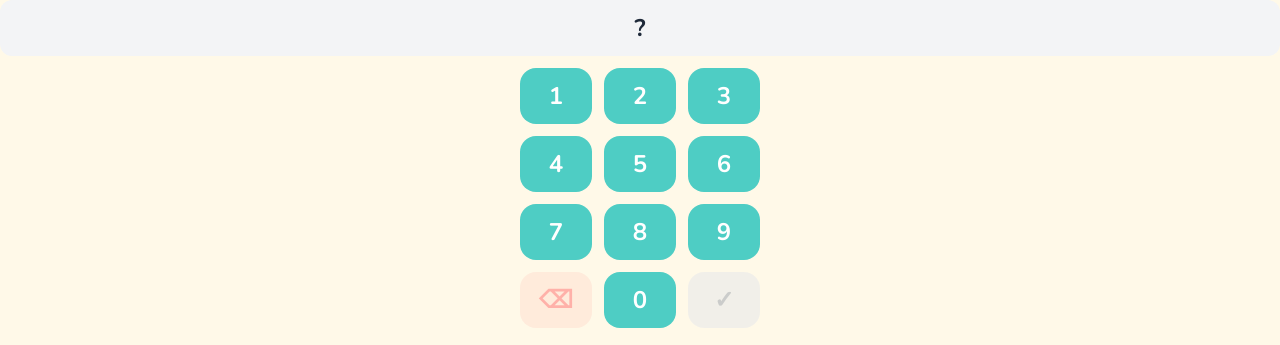
Scenario: NumberPad › appends digit on tap
The image size is (1280, 345).
Step 1. Click the button named "Number 3" → (724, 96), box 688,68 -> 760,124
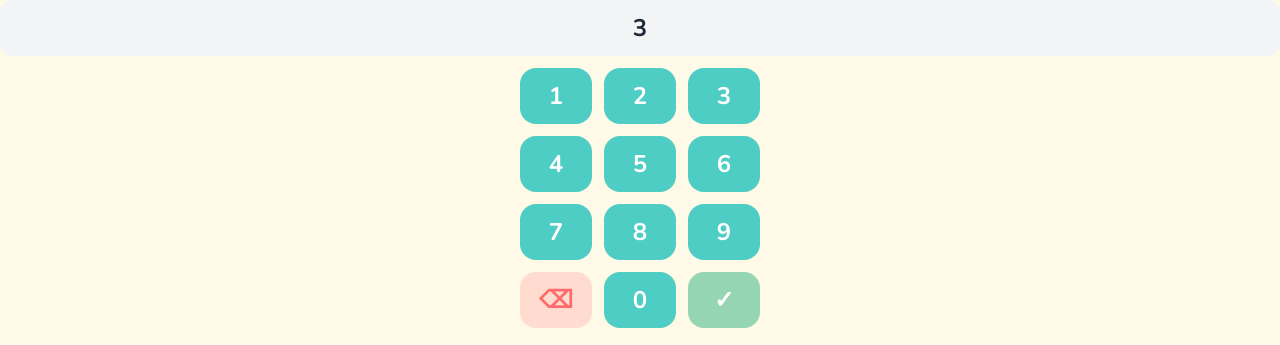
Step 2. Click the button named "Number 7" → (556, 232), box 520,204 -> 592,260
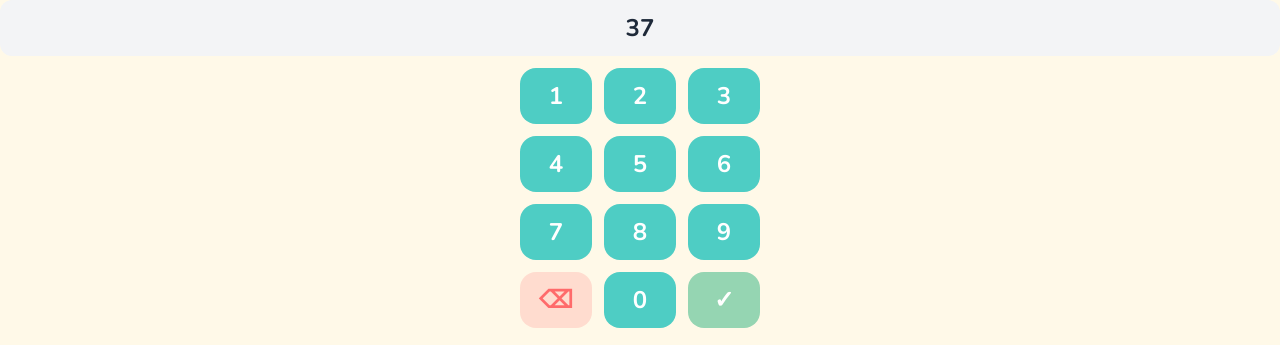
Now the text "37" is shown, box 0,0 -> 1279,56
